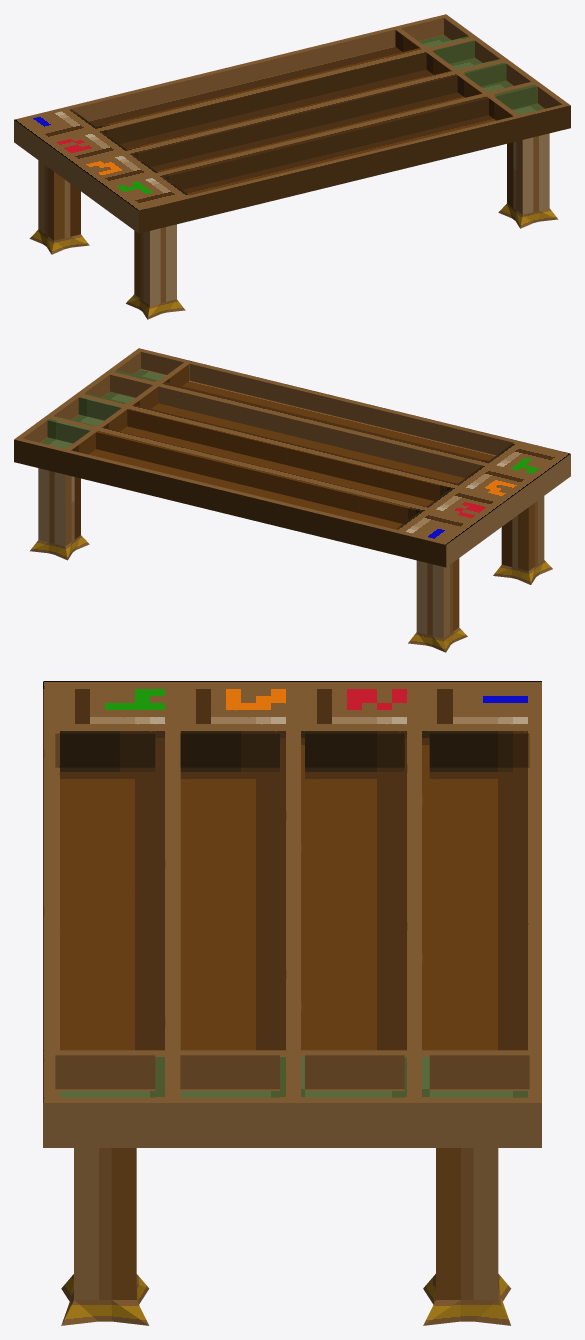
Rendered from RatRace_763x00.gltf.
The picture shows the model from 3 angles, top to bottom: view 1: azimuth 30°, elevation 25°; view 2: azimuth 150°, elevation 25°; view 3: azimuth 270°, elevation 25°; orthographic projection. The views are drawn at different scales.
Parts seen in each view (by area): view 1: RatRace_763x0; view 2: RatRace_763x0; view 3: RatRace_763x0.
Part boxes in pixels (x1,y1,x2,y2): RatRace_763x0: [14, 14, 570, 319]; RatRace_763x0: [14, 348, 570, 652]; RatRace_763x0: [43, 681, 541, 1325].
Size of the model in its own units: 8 by 2.04 by 4.
Materials: 2 (2 with a texture image).
